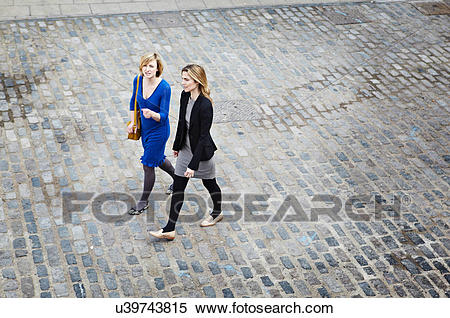Person: (149, 64, 224, 243), (123, 51, 178, 217)
